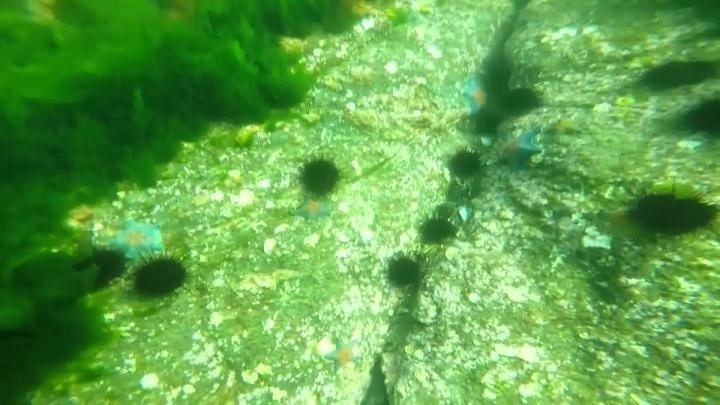echinus: (625, 183, 718, 239), (129, 252, 189, 301), (639, 56, 715, 94), (72, 245, 128, 290), (296, 154, 344, 199), (680, 94, 720, 140), (383, 252, 425, 291), (480, 55, 517, 99), (416, 213, 459, 247), (499, 84, 542, 118), (445, 147, 485, 182), (471, 107, 505, 138)
starfish: (107, 218, 167, 262), (494, 126, 543, 174), (459, 73, 491, 119), (326, 335, 362, 369), (291, 197, 334, 224), (547, 114, 584, 138)
